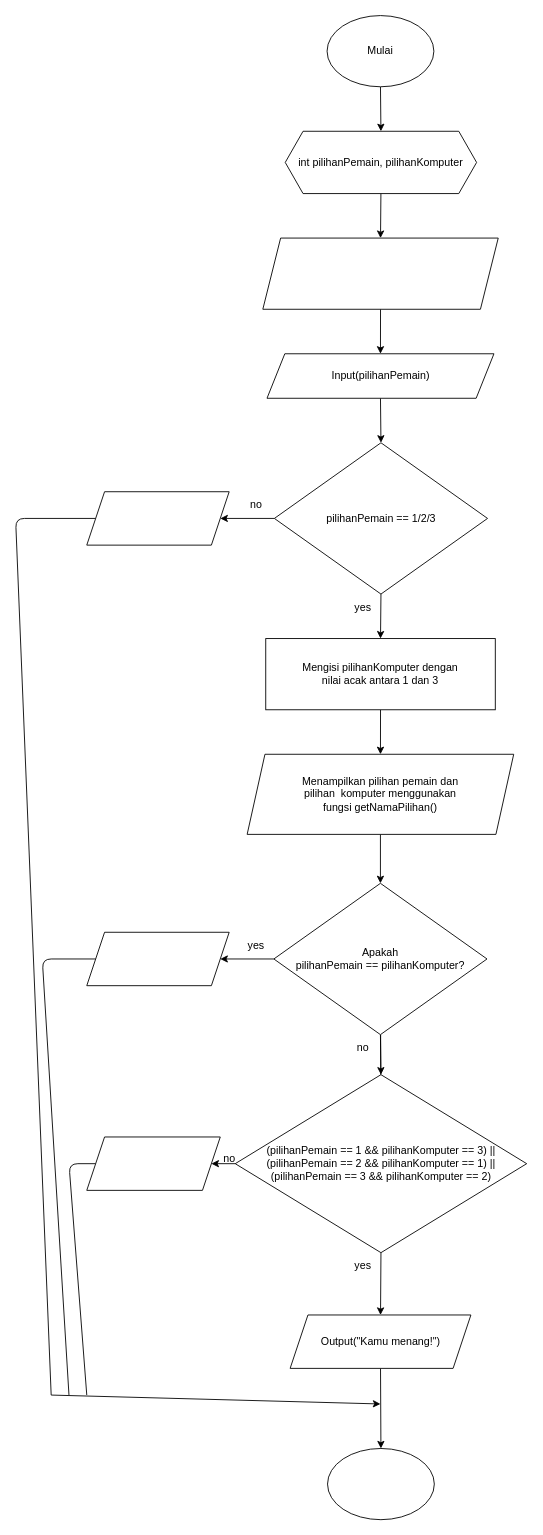
The diagram is 543 pixels wide and 1535 high, and some of its shapes have lost their labels. The centre of each missing label's shape, as x and y in pixels:
Output ("Pilihan tidak valid"): the point at 157,518
Output(" Pilih salah satu: 1. Semut, 2. Orang, 3. Gajah"): the point at 380,273
Output("Kamu kalah!"): the point at 153,1163
Output("Seri!"): the point at 157,958
Selesai: the point at 380,1484
